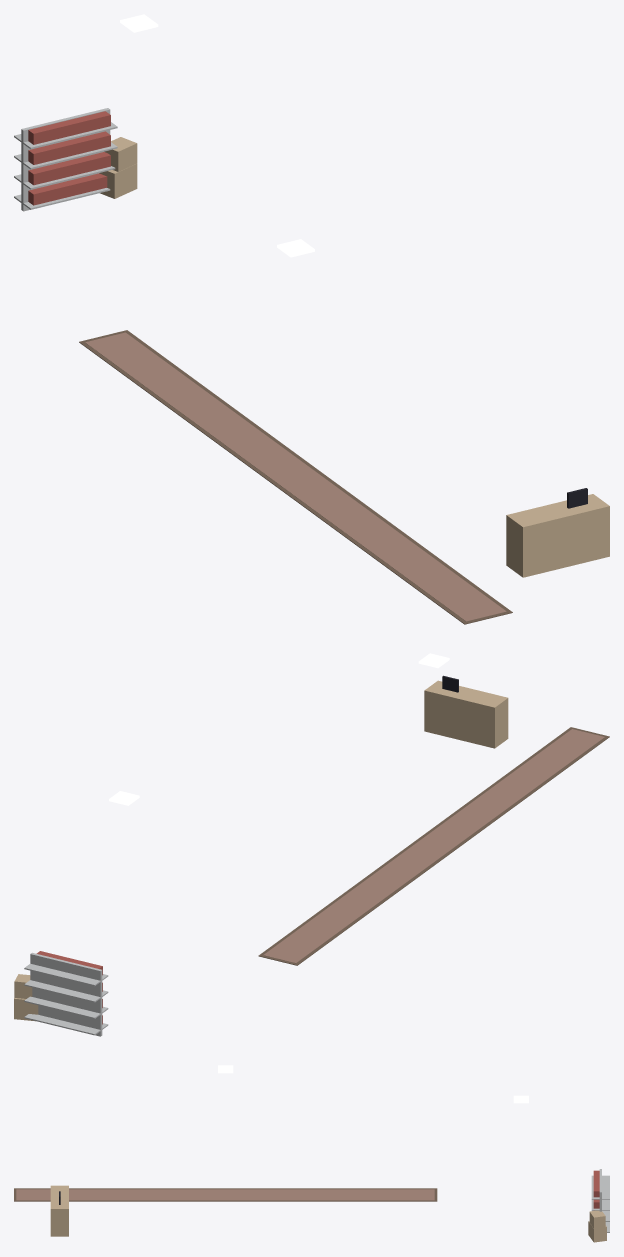
Rendered from fine-s0.glb.
3 renders of one model, top to bottom at view 1: azimuth 30°, elevation 25°; view 2: azimuth 150°, elevation 25°; view 3: azimuth 270°, elevation 25°, orthographic. The views are drawn at different scales.
Parts seen in each view (by area): view 1: soft-s0, shelving.000, shop-counter.000, cardboard-box.000; view 2: soft-s0, shelving.000, shop-counter.000, cardboard-box.000; view 3: soft-s0, shop-counter.000, shelving.000, cardboard-box.000.
Part boxes in pixels (x1=…): soft-s0: x1=79, y1=330, x2=512, y2=624; shelving.000: x1=14, y1=108, x2=117, y2=211; shop-counter.000: x1=506, y1=488, x2=609, y2=577; cardboard-box.000: x1=99, y1=137, x2=137, y2=198; soft-s0: x1=258, y1=727, x2=609, y2=965; shelving.000: x1=24, y1=951, x2=108, y2=1036; shop-counter.000: x1=424, y1=675, x2=508, y2=748; cardboard-box.000: x1=14, y1=974, x2=38, y2=1021; soft-s0: x1=14, y1=1188, x2=437, y2=1201; shop-counter.000: x1=50, y1=1185, x2=68, y2=1236; shelving.000: x1=591, y1=1169, x2=609, y2=1232; cardboard-box.000: x1=588, y1=1210, x2=606, y2=1242.
Bounding box in the file's own units: 4.17 × 4.57 × 19.49.
